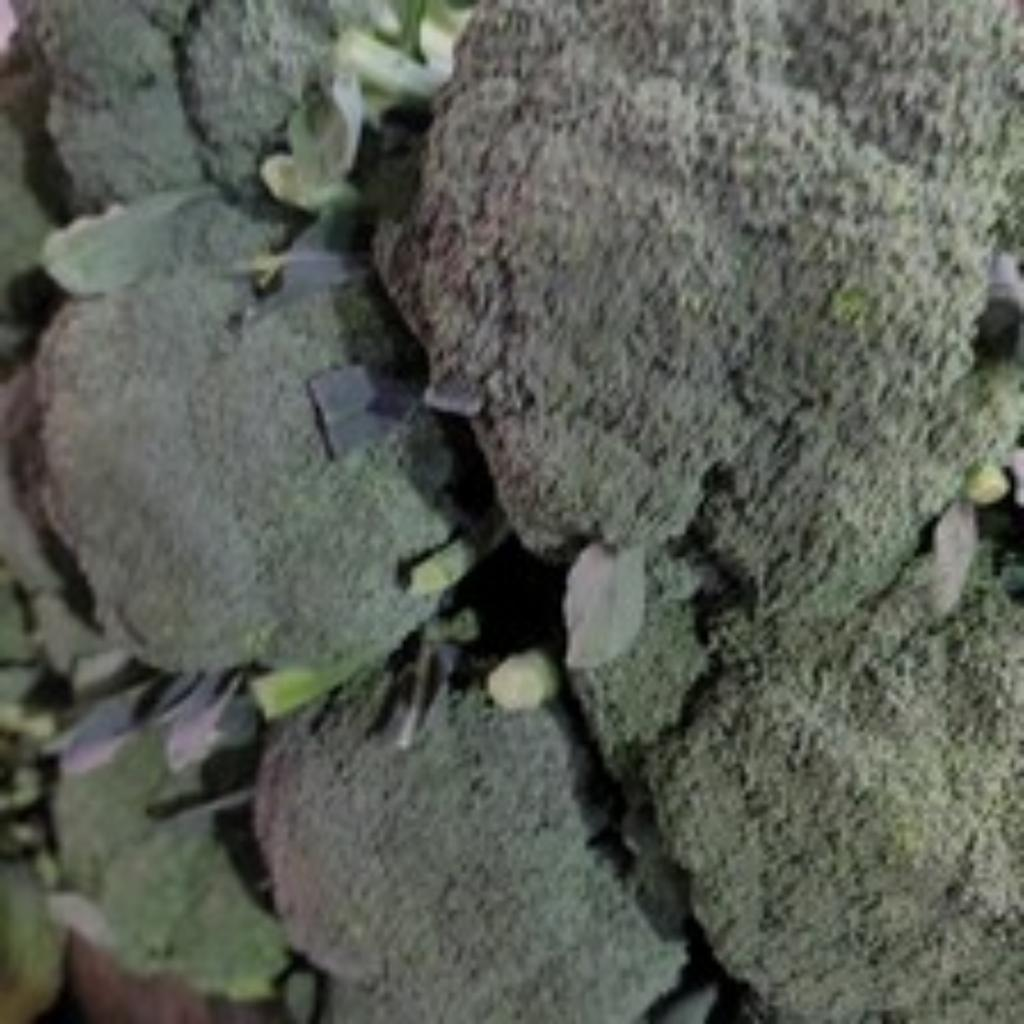Broccoli: (376, 0, 1024, 601), (378, 0, 1024, 599), (602, 566, 1024, 1023), (38, 228, 470, 669), (642, 554, 1024, 1023), (42, 278, 452, 669), (258, 652, 682, 1024), (258, 692, 684, 1024)
